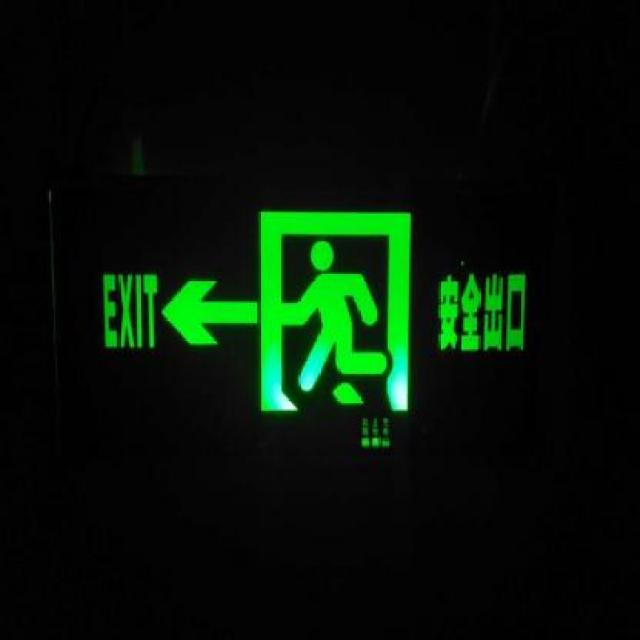exit_sign: (39, 170, 573, 452)
